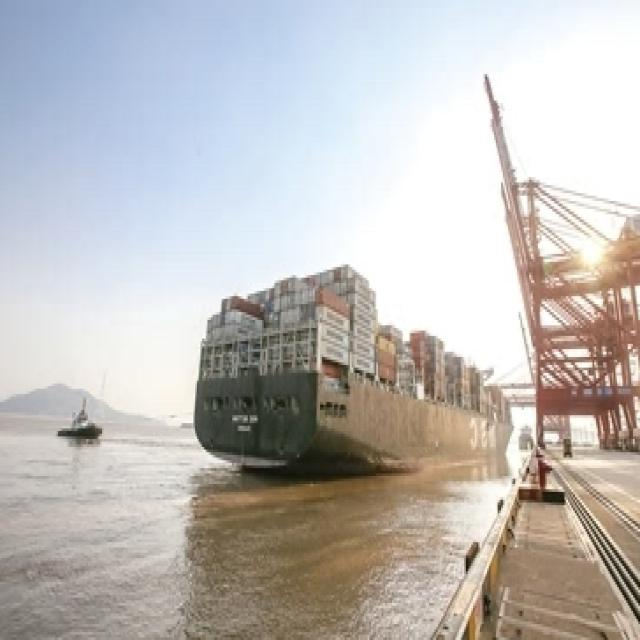cargoship: (196, 262, 515, 473)
houseboat: (57, 398, 102, 439)
